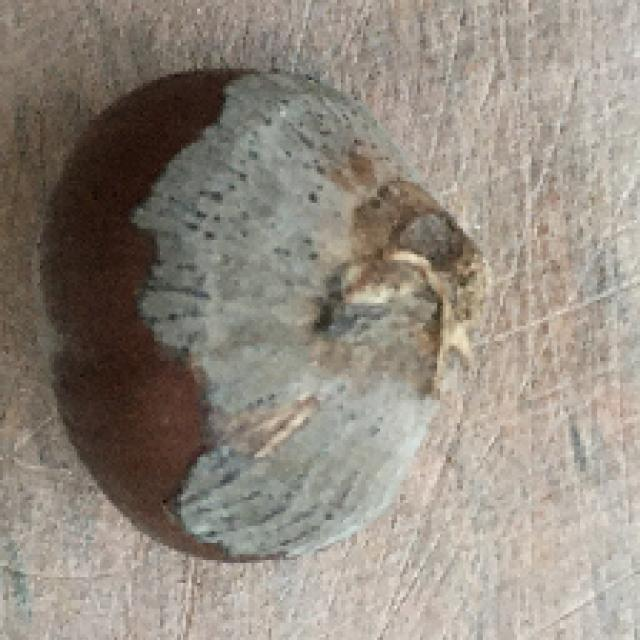damagedHazelnut: (37, 52, 487, 580)
